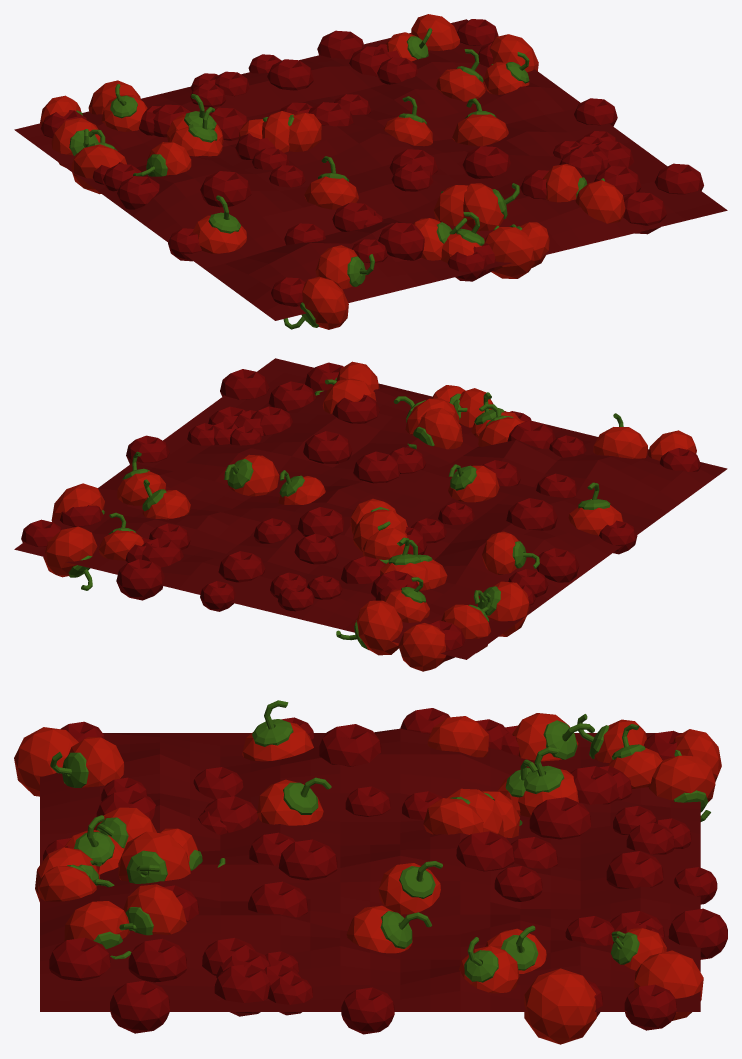
File: PepperTile.fbx
The picture shows the model from 3 angles, top to bottom: view 1: azimuth 30°, elevation 25°; view 2: azimuth 150°, elevation 25°; view 3: azimuth 270°, elevation 25°; orthographic projection. The views are drawn at different scales.
Visible parts, largest first — view 1: Plane, Plane|Icosphere|Dupli|25.0.0.0.0.0.0.0.0.0, Plane|Icosphere|Dupli|15.0.0.0.0.0.0.0.0.0, Plane|Icosphere|Dupli|0.0.0.0.0.0.0.0.0.0, Plane|Icosphere|Dupli|11.0.0.0.0.0.0.0.0.0, Plane|Icosphere|Dupli|23.0.0.0.0.0.0.0.0.0, Plane|Icosphere|Dupli|7.0.0.0.0.0.0.0.0.0, Plane|Icosphere|Dupli|19.0.0.0.0.0.0.0.0.0, Plane|Icosphere|Dupli|9.0.0.0.0.0.0.0.0.0, Plane|Icosphere|Dupli|26.0.0.0.0.0.0.0.0.0, Plane|Icosphere|Dupli|5.0.0.0.0.0.0.0.0.0, Plane|Icosphere.001|Dupli|40.1.0.0.0.0.0.0.0.0 (+53 smaller); view 2: Plane, Plane|Icosphere|Dupli|28.0.0.0.0.0.0.0.0.0, Plane|Icosphere|Dupli|27.0.0.0.0.0.0.0.0.0, Plane|Icosphere|Dupli|29.0.0.0.0.0.0.0.0.0, Plane|Icosphere|Dupli|26.0.0.0.0.0.0.0.0.0, Plane|Icosphere|Dupli|7.0.0.0.0.0.0.0.0.0, Plane|Icosphere|Dupli|19.0.0.0.0.0.0.0.0.0, Plane|Icosphere|Dupli|24.0.0.0.0.0.0.0.0.0, Plane|Icosphere|Dupli|13.0.0.0.0.0.0.0.0.0, Plane|Icosphere.001|Dupli|0.1.0.0.0.0.0.0.0.0, Plane|Icosphere|Dupli|23.0.0.0.0.0.0.0.0.0, Plane|Icosphere|Dupli|0.0.0.0.0.0.0.0.0.0 (+56 smaller); view 3: Plane, Plane|Icosphere|Dupli|4.0.0.0.0.0.0.0.0.0, Plane|Icosphere|Dupli|11.0.0.0.0.0.0.0.0.0, Plane|Icosphere|Dupli|23.0.0.0.0.0.0.0.0.0, Plane|Icosphere|Dupli|28.0.0.0.0.0.0.0.0.0, Plane|Icosphere|Dupli|10.0.0.0.0.0.0.0.0.0, Plane|Icosphere|Dupli|7.0.0.0.0.0.0.0.0.0, Plane|Icosphere|Dupli|8.0.0.0.0.0.0.0.0.0, Plane|Icosphere|Dupli|19.0.0.0.0.0.0.0.0.0, Plane|Icosphere.001|Dupli|7.1.0.0.0.0.0.0.0.0, Plane|Icosphere|Dupli|26.0.0.0.0.0.0.0.0.0, Plane|Icosphere|Dupli|25.0.0.0.0.0.0.0.0.0 (+54 smaller).
Boxes of the visible parts, box(x1,y1,x2,y2) form: Plane: box(14, 19, 727, 320); Plane|Icosphere|Dupli|25.0.0.0.0.0.0.0.0.0: box(283, 276, 348, 329); Plane|Icosphere|Dupli|15.0.0.0.0.0.0.0.0.0: box(485, 224, 534, 278); Plane|Icosphere|Dupli|0.0.0.0.0.0.0.0.0.0: box(193, 195, 246, 253); Plane|Icosphere|Dupli|11.0.0.0.0.0.0.0.0.0: box(463, 183, 519, 230); Plane|Icosphere|Dupli|23.0.0.0.0.0.0.0.0.0: box(315, 245, 374, 289); Plane|Icosphere|Dupli|7.0.0.0.0.0.0.0.0.0: box(452, 98, 508, 146); Plane|Icosphere|Dupli|19.0.0.0.0.0.0.0.0.0: box(304, 156, 358, 209); Plane|Icosphere|Dupli|9.0.0.0.0.0.0.0.0.0: box(575, 180, 625, 223); Plane|Icosphere|Dupli|26.0.0.0.0.0.0.0.0.0: box(71, 129, 126, 194); Plane|Icosphere|Dupli|5.0.0.0.0.0.0.0.0.0: box(436, 49, 485, 101); Plane|Icosphere.001|Dupli|40.1.0.0.0.0.0.0.0.0: box(200, 171, 251, 207); Plane: box(14, 358, 727, 659); Plane|Icosphere|Dupli|28.0.0.0.0.0.0.0.0.0: box(336, 600, 402, 655); Plane|Icosphere|Dupli|27.0.0.0.0.0.0.0.0.0: box(43, 526, 97, 590); Plane|Icosphere|Dupli|29.0.0.0.0.0.0.0.0.0: box(398, 623, 446, 671); Plane|Icosphere|Dupli|26.0.0.0.0.0.0.0.0.0: box(473, 581, 529, 636); Plane|Icosphere|Dupli|7.0.0.0.0.0.0.0.0.0: box(224, 454, 279, 496); Plane|Icosphere|Dupli|19.0.0.0.0.0.0.0.0.0: box(448, 464, 499, 502); Plane|Icosphere|Dupli|24.0.0.0.0.0.0.0.0.0: box(482, 531, 539, 574); Plane|Icosphere|Dupli|13.0.0.0.0.0.0.0.0.0: box(407, 408, 462, 449); Plane|Icosphere.001|Dupli|0.1.0.0.0.0.0.0.0.0: box(116, 559, 164, 600); Plane|Icosphere|Dupli|23.0.0.0.0.0.0.0.0.0: box(593, 413, 647, 458); Plane|Icosphere|Dupli|0.0.0.0.0.0.0.0.0.0: box(568, 482, 623, 535); Plane: box(40, 728, 700, 1011); Plane|Icosphere|Dupli|4.0.0.0.0.0.0.0.0.0: box(524, 968, 596, 1044); Plane|Icosphere|Dupli|11.0.0.0.0.0.0.0.0.0: box(118, 831, 190, 883); Plane|Icosphere|Dupli|23.0.0.0.0.0.0.0.0.0: box(50, 737, 124, 787); Plane|Icosphere|Dupli|28.0.0.0.0.0.0.0.0.0: box(648, 755, 715, 821); Plane|Icosphere|Dupli|10.0.0.0.0.0.0.0.0.0: box(378, 861, 442, 914); Plane|Icosphere|Dupli|7.0.0.0.0.0.0.0.0.0: box(346, 905, 431, 953); Plane|Icosphere|Dupli|8.0.0.0.0.0.0.0.0.0: box(119, 884, 186, 935); Plane|Icosphere|Dupli|19.0.0.0.0.0.0.0.0.0: box(257, 777, 331, 825); Plane|Icosphere.001|Dupli|7.1.0.0.0.0.0.0.0.0: box(110, 980, 169, 1033); Plane|Icosphere|Dupli|26.0.0.0.0.0.0.0.0.0: box(512, 713, 594, 761); Plane|Icosphere|Dupli|25.0.0.0.0.0.0.0.0.0: box(14, 727, 78, 796).
Size of the model in its own units: 840 by 136 by 865.
1 material, 1 textured.
